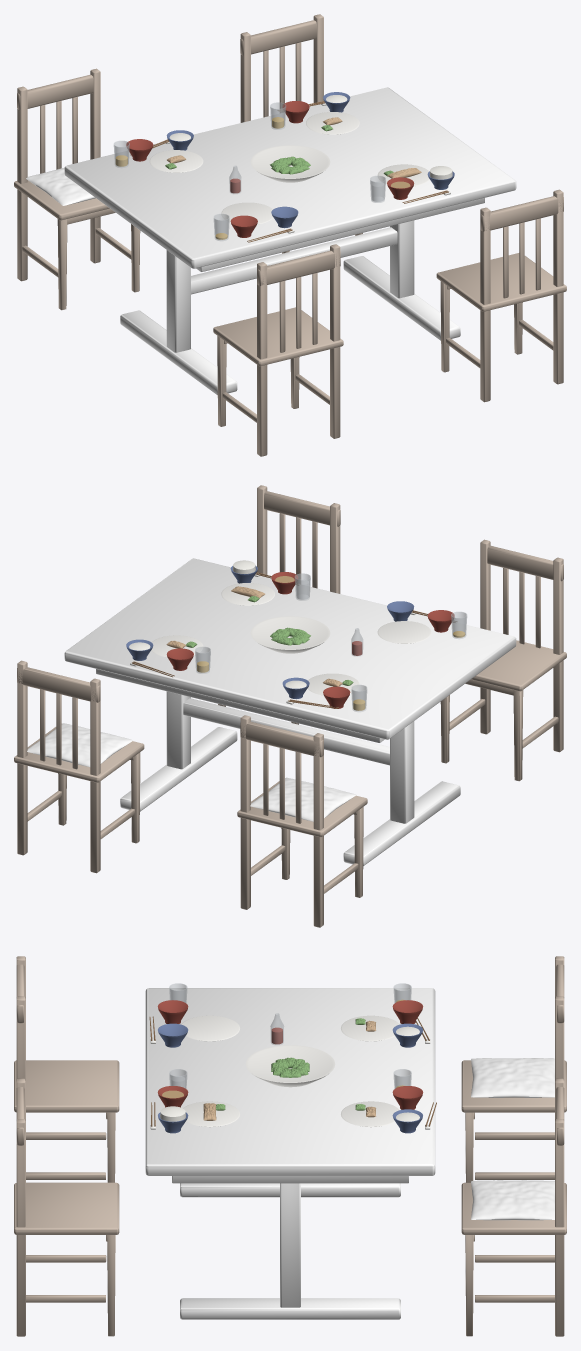
The model's file is KurodaHome_Dining.fbx.
3 renders of one model, top to bottom at view 1: azimuth 30°, elevation 25°; view 2: azimuth 150°, elevation 25°; view 3: azimuth 270°, elevation 25°, orthographic. The views are drawn at different scales.
Visible parts, largest first — view 1: KurodaHome_Dining; view 2: KurodaHome_Dining; view 3: KurodaHome_Dining.
Boxes of the visible parts, left/top/right/bottom form: KurodaHome_Dining: left=14, top=14, right=566, bottom=456; KurodaHome_Dining: left=14, top=485, right=566, bottom=927; KurodaHome_Dining: left=14, top=956, right=566, bottom=1336.
Size of the model in its own units: 1.6 by 0.9 by 2.1.
